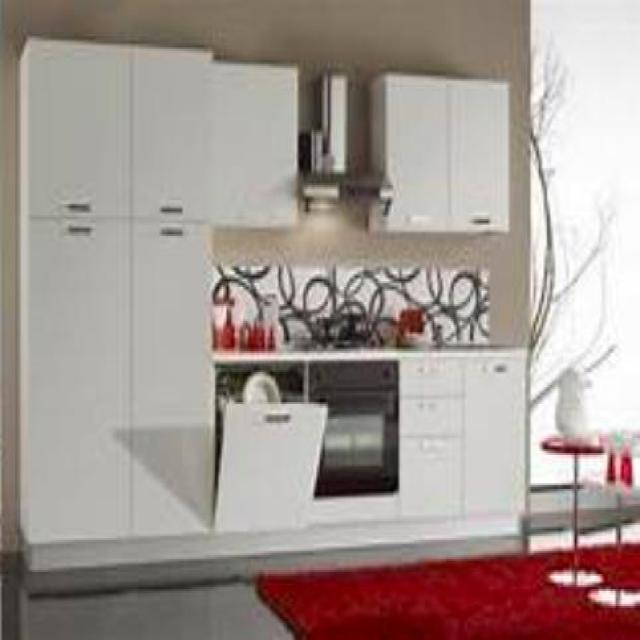dishwasher: (214, 358, 325, 526)
